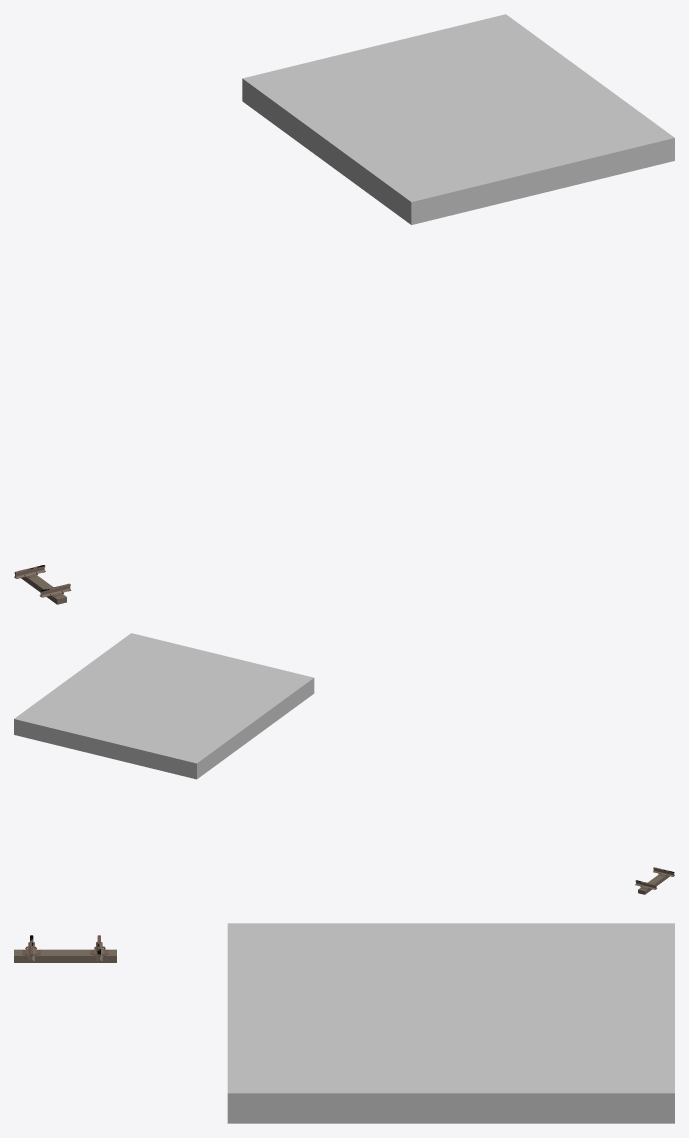
Rendered from track_1m.obj.
The picture shows the model from 3 angles, top to bottom: view 1: azimuth 30°, elevation 25°; view 2: azimuth 150°, elevation 25°; view 3: azimuth 270°, elevation 25°; orthographic projection. The views are drawn at different scales.
Visible parts, largest first — view 1: RAIL_BASE.001_ID33; view 2: RAIL_BASE.001_ID33; view 3: RAIL_BASE.001_ID33, RAIL_BASE_Cube.002.
Boxes of the visible parts, bbox=[...] form: RAIL_BASE.001_ID33: bbox=[242, 14, 674, 224]; RAIL_BASE.001_ID33: bbox=[14, 633, 314, 779]; RAIL_BASE.001_ID33: bbox=[227, 923, 674, 1123]; RAIL_BASE_Cube.002: bbox=[14, 949, 116, 962].
Size of the model in its own units: 24.19 by 7.75 by 14.77.
